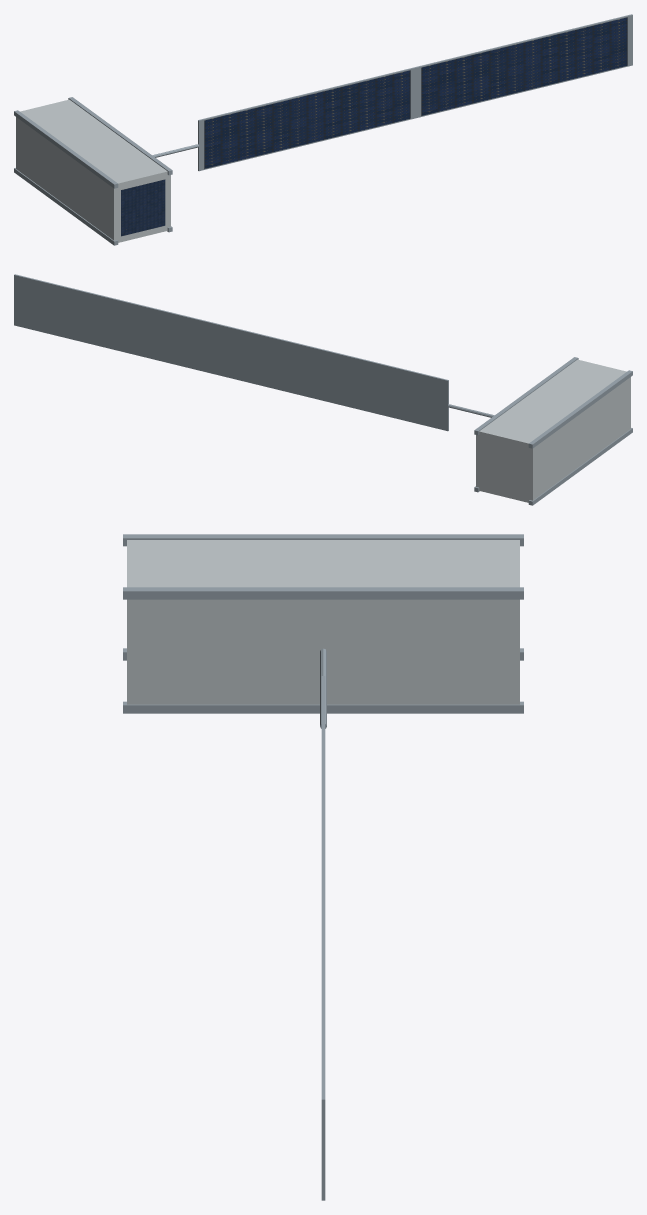
File: ref-cubesat-3u-44347.glb
The picture shows the model from 3 angles, top to bottom: view 1: azimuth 30°, elevation 25°; view 2: azimuth 150°, elevation 25°; view 3: azimuth 270°, elevation 25°; orthographic projection. The views are drawn at different scales.
Parts seen in each view (by area): view 1: Photovoltaic laminates (×2), Spacecraft body, Array frame (×2), Body-mounted cells, Dispenser rail (×3); view 2: Array frame (×2), Spacecraft body, Dispenser rail (×3); view 3: Spacecraft body, Dispenser rail (×3), Array frame (×2).
Boxes of the visible parts, x1,y1,x2,y2 form: Photovoltaic laminates (×2): [204, 17, 627, 168]; Spacecraft body: [16, 99, 170, 242]; Array frame (×2): [198, 14, 632, 171]; Body-mounted cells: [121, 179, 165, 236]; Dispenser rail (×3): [14, 97, 172, 245]; Array frame (×2): [14, 274, 448, 431]; Spacecraft body: [476, 359, 630, 502]; Dispenser rail (×3): [474, 357, 632, 505]; Spacecraft body: [127, 540, 519, 704]; Dispenser rail (×3): [123, 534, 523, 713]; Array frame (×2): [321, 676, 325, 1200].
Bounding box in the file's own units: 1 × 0.103 × 0.306.
Materials: 3 (1 with a texture image).
